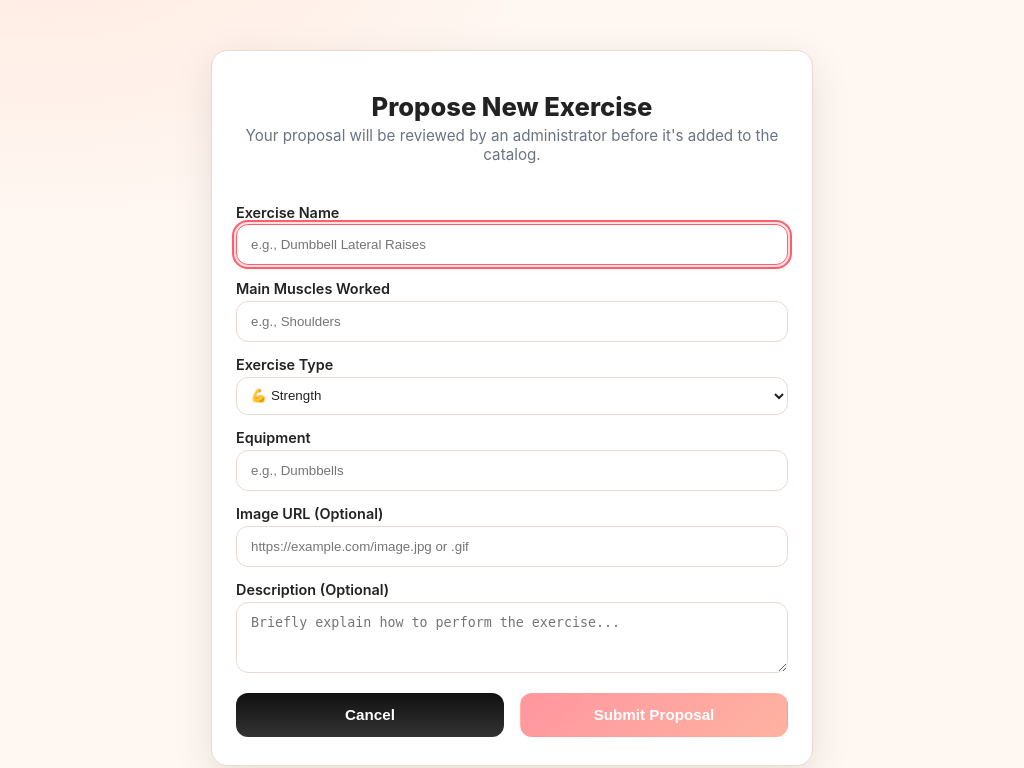
it: CreateExercisePage › submits form successfully
Type "Burpee" into the field labelled "Exercise Name". click: [512, 244]
box: [236, 224, 788, 265]
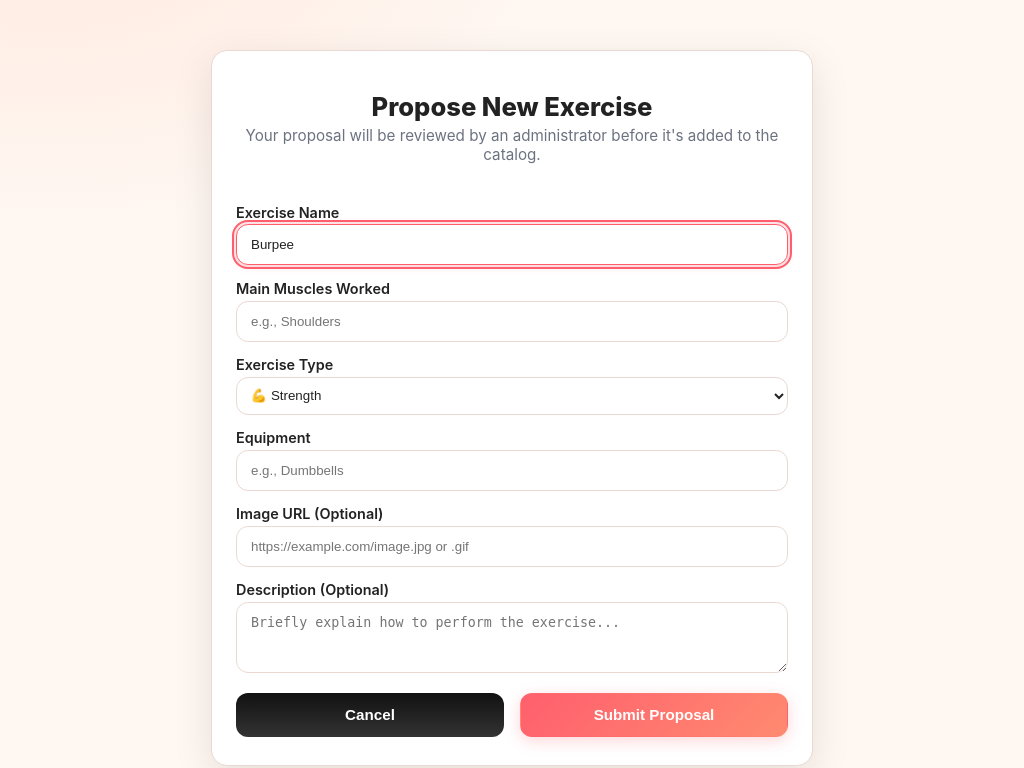
Type "Full Body" into the field with placeholder "e.g., Shoulders". click: [512, 321]
box: [236, 301, 788, 342]
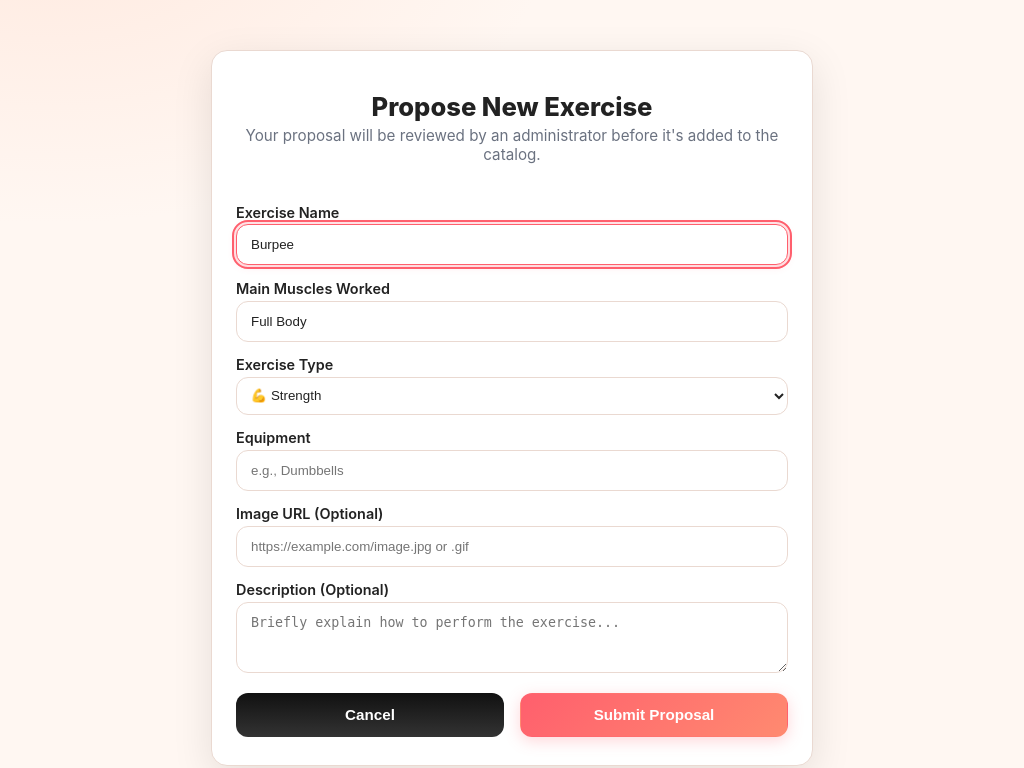
Expected: the button "Submit Proposal" is enabled
Click the button "Submit Proposal". click: [654, 715]
box: [520, 693, 788, 737]
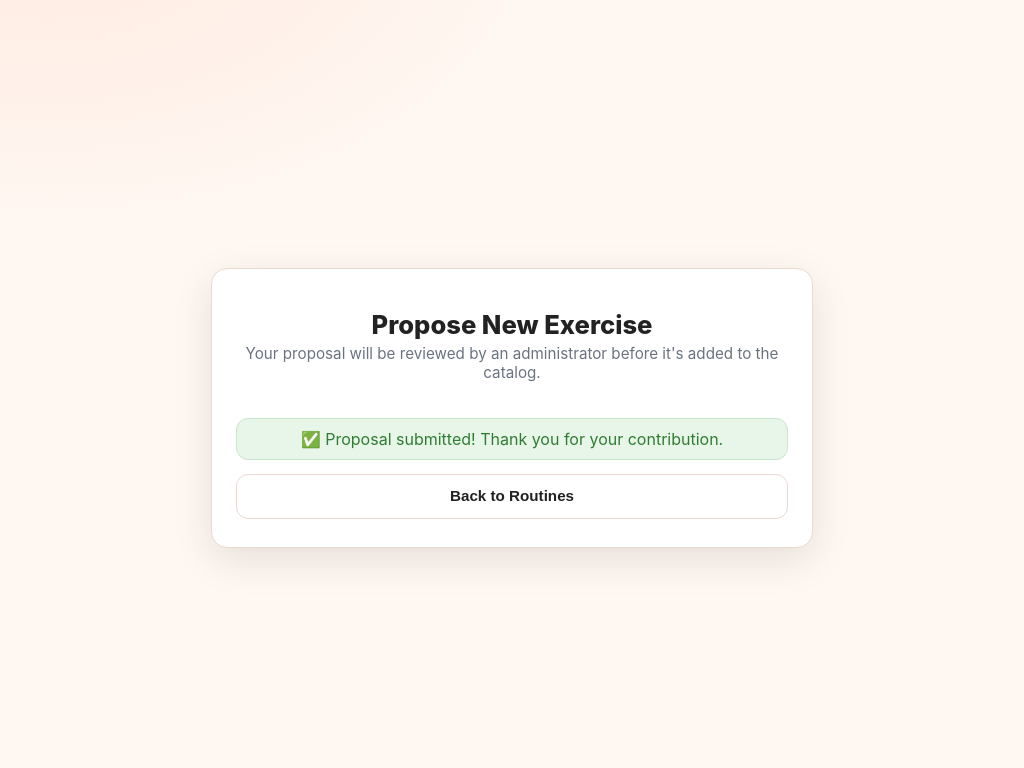
Expected: the text "✅ Proposal submitted! Thank you for your contribution." is shown, [236, 418, 788, 460]
